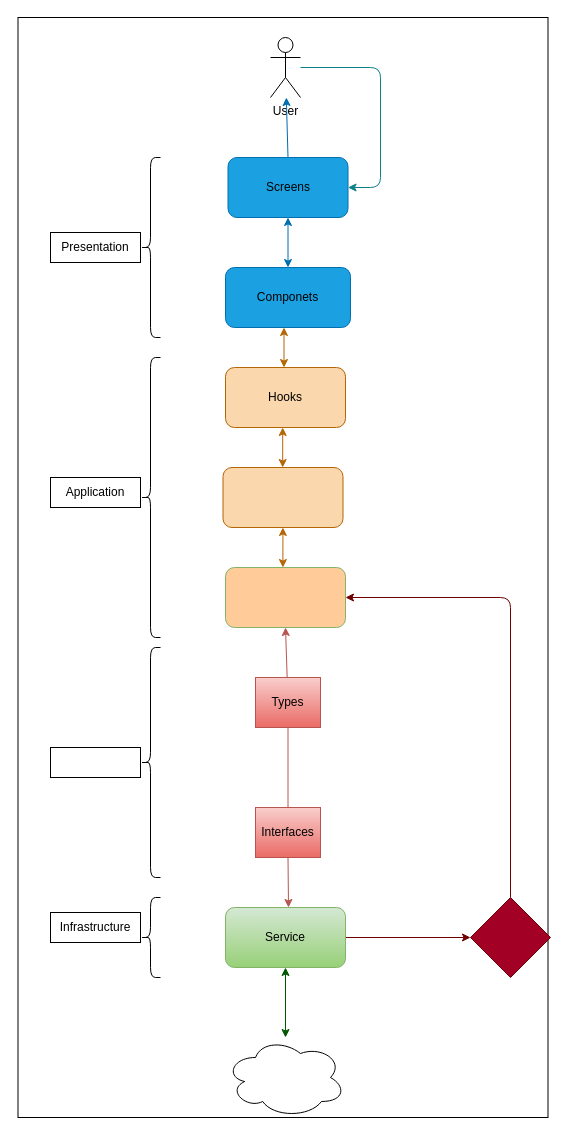
Image size: 568x1135. Some labels were removed from this diagram. Here are the shapes that lost their labels. From the top down, the centre of each, then its label:
At point 282,497: "Redux".
At point 285,597: "Thunks".
At point 95,762: "Domain".
At point 510,937: "Exceptions".
At point 285,1077: "API".
